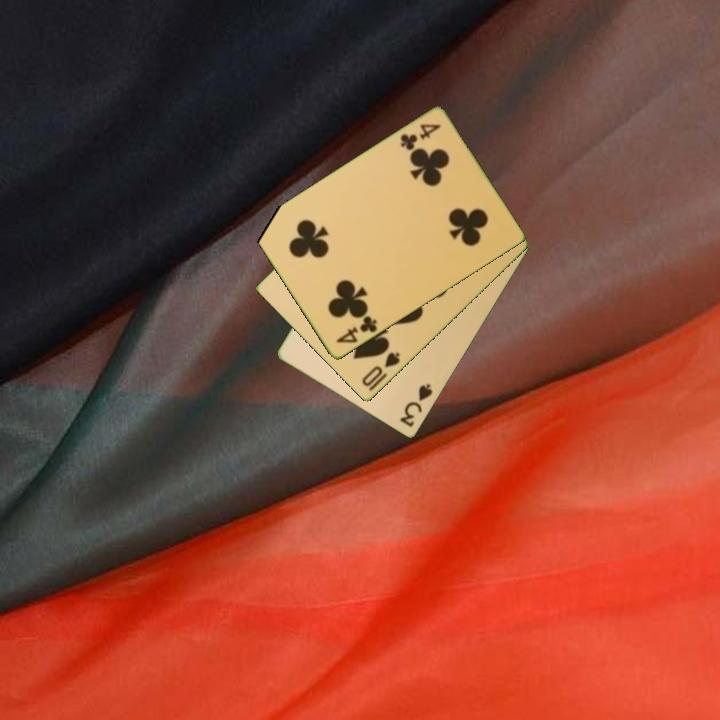10s: (358, 348, 403, 390)
3s: (396, 380, 436, 431)
4c: (332, 312, 380, 347), (396, 120, 444, 154)
